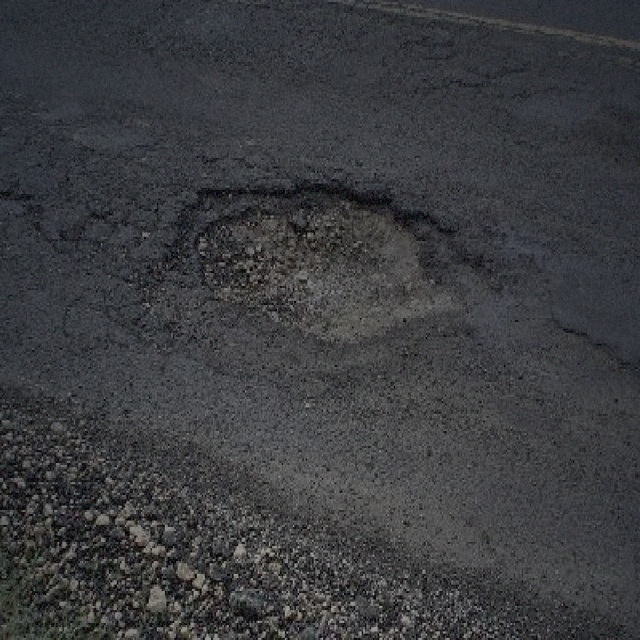pothole: (144, 173, 501, 356)
